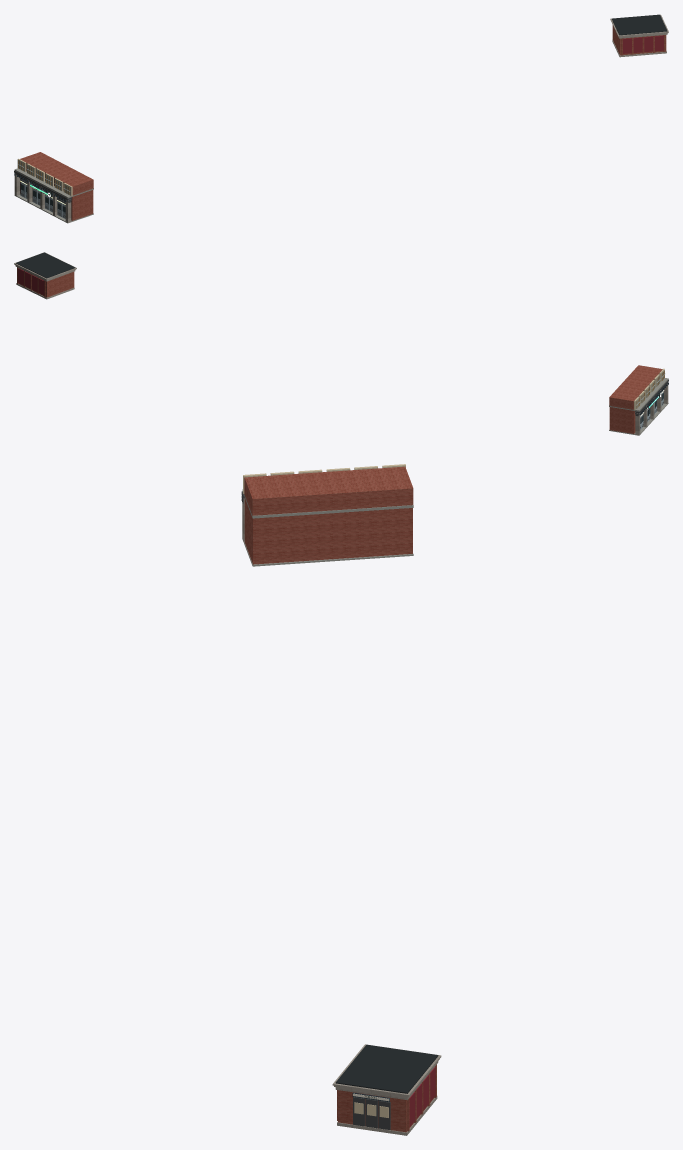
Rendered from place-hymnl.glb.
The picture shows the model from 3 angles, top to bottom: view 1: azimuth 30°, elevation 25°; view 2: azimuth 150°, elevation 25°; view 3: azimuth 270°, elevation 25°; orthographic projection. The views are drawn at different scales.
Visible parts, largest first — view 1: Massachusetts Avenue portal.BrickBond, Boylston Street former headhouse.Shadow, Boylston Street former headhouse.Oxblood, Massachusetts Avenue portal.BostonGranite, Massachusetts Avenue portal.CreamTile, Massachusetts Avenue portal.DeckConcrete, Massachusetts Avenue portal.Glass, Boylston Street former headhouse.BrickBond, Boylston Street former headhouse.BostonGranite, Massachusetts Avenue portal.Alloy, Massachusetts Avenue portal.Gunmetal; view 2: Massachusetts Avenue portal.BrickBond, Boylston Street former headhouse.Shadow, Boylston Street former headhouse.BrickBond, Massachusetts Avenue portal.BostonGranite, Boylston Street former headhouse.BostonGranite, Massachusetts Avenue portal.DeckConcrete, Boylston Street former headhouse.Oxblood, Massachusetts Avenue portal.CreamTile; view 3: Massachusetts Avenue portal.BrickBond, Boylston Street former headhouse.Shadow, Boylston Street former headhouse.BrickBond, Boylston Street former headhouse.BostonGranite, Massachusetts Avenue portal.DeckConcrete.
Boxes of the visible parts, x1,y1,x2,y2 form: Massachusetts Avenue portal.BrickBond: (20, 152, 93, 220); Boylston Street former headhouse.Shadow: (612, 14, 667, 35); Boylston Street former headhouse.Oxblood: (623, 35, 663, 53); Massachusetts Avenue portal.BostonGranite: (14, 173, 71, 222); Massachusetts Avenue portal.CreamTile: (17, 158, 72, 196); Massachusetts Avenue portal.DeckConcrete: (14, 168, 93, 223); Massachusetts Avenue portal.Glass: (17, 160, 70, 212); Boylston Street former headhouse.BrickBond: (612, 25, 666, 55); Boylston Street former headhouse.BostonGranite: (610, 14, 668, 57); Massachusetts Avenue portal.Alloy: (17, 164, 69, 218); Massachusetts Avenue portal.Gunmetal: (14, 170, 71, 217); Massachusetts Avenue portal.BrickBond: (609, 365, 662, 433); Boylston Street former headhouse.Shadow: (16, 252, 75, 278); Boylston Street former headhouse.BrickBond: (17, 267, 74, 297); Massachusetts Avenue portal.BostonGranite: (635, 384, 668, 435); Boylston Street former headhouse.BostonGranite: (14, 252, 76, 299); Massachusetts Avenue portal.DeckConcrete: (609, 378, 668, 435); Boylston Street former headhouse.Oxblood: (18, 268, 44, 294); Massachusetts Avenue portal.CreamTile: (634, 368, 664, 410); Massachusetts Avenue portal.BrickBond: (244, 466, 413, 564); Boylston Street former headhouse.Shadow: (335, 1044, 438, 1093); Boylston Street former headhouse.BrickBond: (337, 1064, 436, 1132); Boylston Street former headhouse.BostonGranite: (332, 1044, 441, 1135); Massachusetts Avenue portal.DeckConcrete: (242, 489, 413, 566).
Bounding box in the file's own units: 120 × 6.22 × 16.57.
16 materials, 3 textured.
